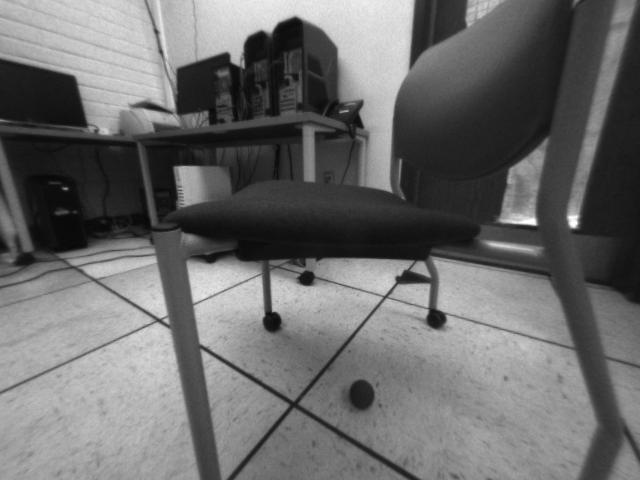dogtoy: (342, 372, 385, 415)
